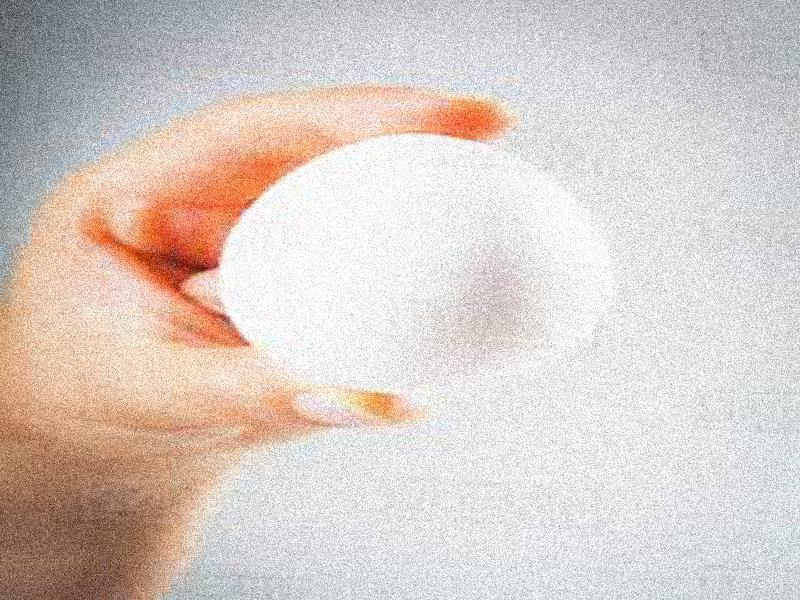Eggs: (235, 131, 607, 393)
